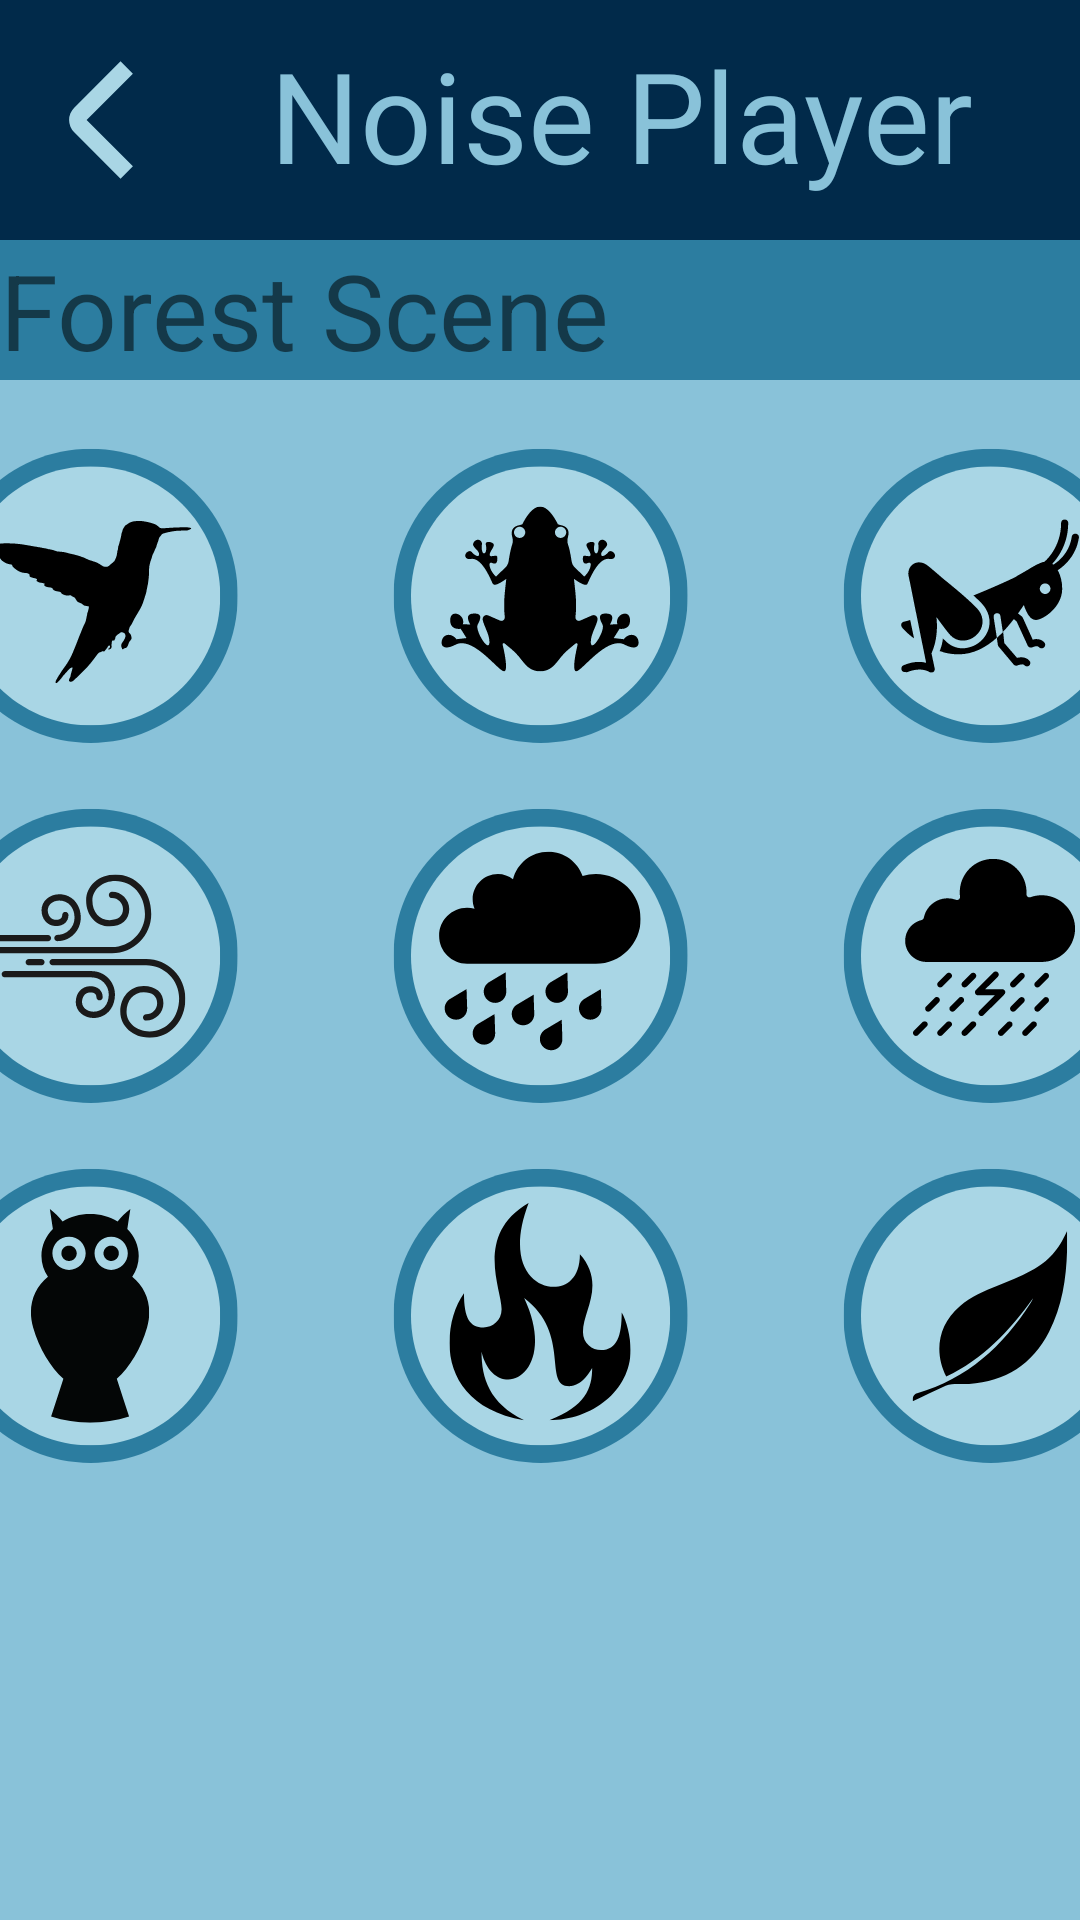

Named icons in this screenshot (1080px x 1920px) and their centers, [x,y]:
angle left: [101,120]
fire: [541,1316]
frogs: [541,596]
rain: [541,956]
